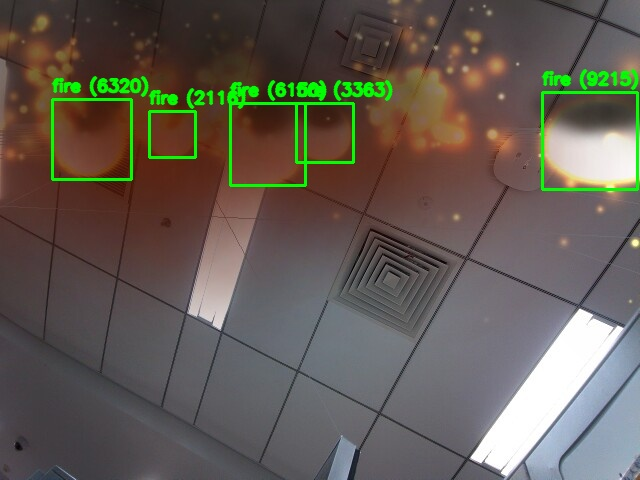fire: (542, 92, 637, 189), (52, 99, 131, 179), (230, 103, 305, 185), (296, 103, 353, 162), (149, 111, 195, 157)
